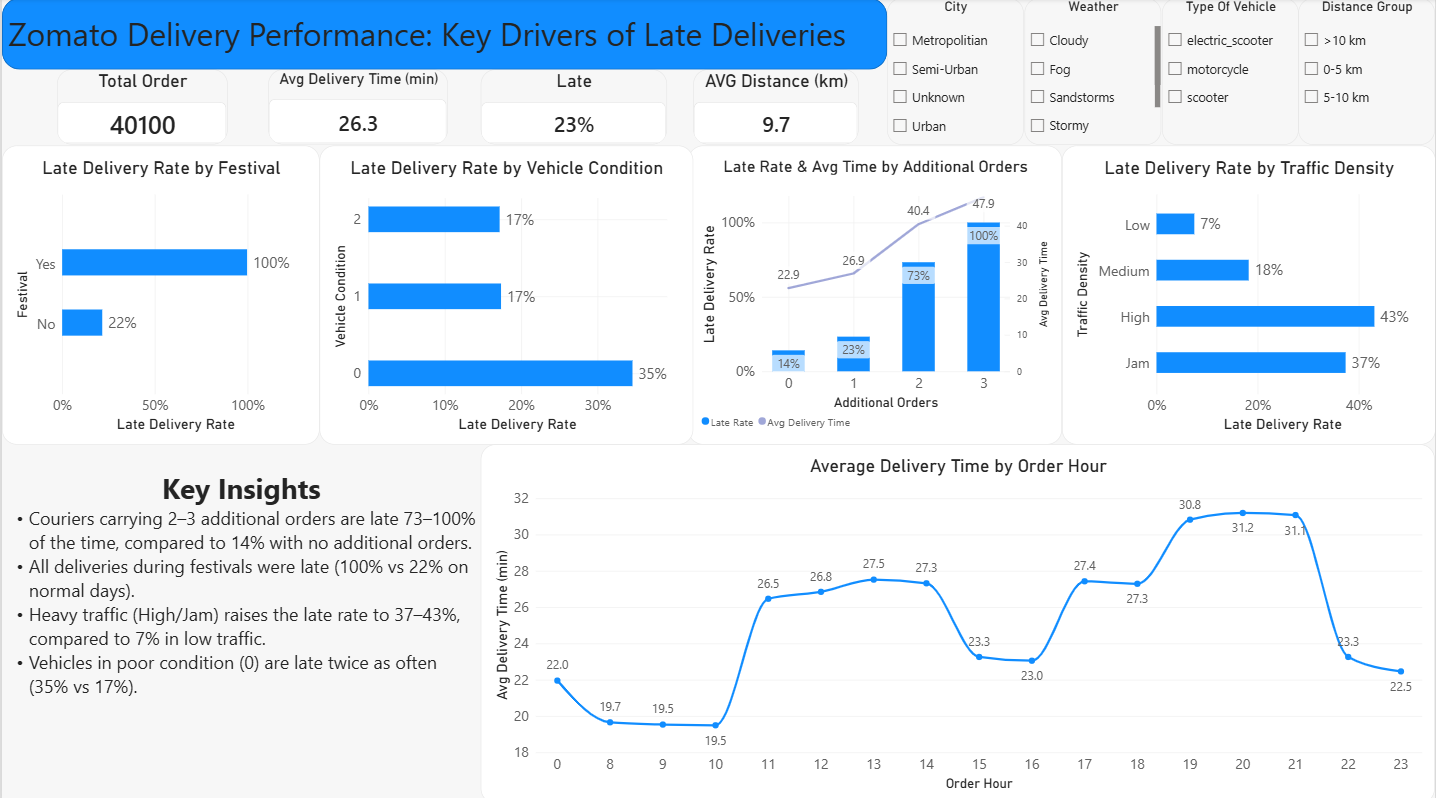

What the dashboard file says about the page in this screenshot:
{"tool":"powerbi","page":{"name":"Page 1","canvas":[1920,1080],"ordinal":0},"visuals":[{"type":"cardVisual","title":"Total Order","fields":{"Data":["zomato_clean.Total Pesanan"]},"box":[73.3,95.9,228.5,101.2],"z":0},{"type":"cardVisual","title":"Avg Delivery Time (min)","fields":{"Data":["zomato_clean.Rata2 Waktu Antar"]},"box":[357.6,95.9,240.7,101.2],"z":1},{"type":"cardVisual","title":"Late","fields":{"Data":["zomato_clean.% Terlambat"]},"box":[641.9,95.9,249.4,101.2],"z":2},{"type":"cardVisual","title":"AVG Distance (km)","fields":{"Data":["zomato_clean.Rata2 Jarak"]},"box":[926.2,95.9,221.5,101.2],"z":3},{"type":"clusteredBarChart","title":"Late Delivery Rate by Number of Additional Orders","fields":{"Category":["zomato_clean.multiple_deliveries"],"Y":["zomato_clean.% Terlambat"]},"box":[919.2,197.1,500.6,401.2],"z":4},{"type":"clusteredBarChart","title":"Late Delivery Rate by Traffic Density","fields":{"Category":["zomato_clean.Road_traffic_density"],"Y":["zomato_clean.% Terlambat"]},"box":[1419.8,197.1,500.6,401.2],"z":5},{"type":"lineChart","title":"Average Delivery Time by Order Hour","fields":{"Category":["zomato_clean.order_hour"],"Y":["zomato_clean.Rata2 Waktu Antar"]},"box":[641.9,598.3,1278.5,481.4],"z":6},{"type":"clusteredBarChart","title":"Late Delivery Rate by Vehicle Condition","fields":{"Category":["zomato_clean.Vehicle_condition"],"Y":["zomato_clean.% Terlambat"]},"box":[425.6,197.1,500.6,401.2],"z":7},{"type":"clusteredBarChart","title":"Late Delivery Rate by Festival","fields":{"Category":["zomato_clean.Festival"],"Y":["zomato_clean.% Terlambat"]},"box":[0,197.1,425.6,401.2],"z":8},{"type":"slicer","title":"City","fields":{"Values":["zomato_clean.City"]},"box":[1186,0,183.1,197.1],"z":9},{"type":"shape","box":[0,0,1186,95.9],"z":10},{"type":"textbox","box":[8.7,0,1177.3,95.9],"z":12},{"type":"slicer","title":"Weather","fields":{"Values":["zomato_clean.Weather_conditions"]},"box":[1370.9,0,183.1,197.1],"z":13},{"type":"slicer","title":"Type Of Vehicle","fields":{"Values":["zomato_clean.Type_of_vehicle"]},"box":[1554.1,0,183.1,197.1],"z":14},{"type":"slicer","title":"Distance Group","fields":{"Values":["zomato_clean.distance_group"]},"box":[1737.2,0,183.1,197.1],"z":15},{"type":"textbox","box":[0,631.5,641.5,448.9],"z":16}]}

Visuals, with their boxes in screenshot pixels (x1, y1, x2, y2), scaled from the page's 1920x1080 canvas onto the 1436x798 screenshot:
"Total Order" cardVisual: bbox(55, 71, 226, 146)
"Avg Delivery Time (min)" cardVisual: bbox(267, 71, 447, 146)
"Late" cardVisual: bbox(480, 71, 667, 146)
"AVG Distance (km)" cardVisual: bbox(693, 71, 858, 146)
"Late Delivery Rate by Number of Additional Orders" clusteredBarChart: bbox(687, 146, 1062, 442)
"Late Delivery Rate by Traffic Density" clusteredBarChart: bbox(1062, 146, 1435, 442)
"Average Delivery Time by Order Hour" lineChart: bbox(480, 442, 1435, 797)
"Late Delivery Rate by Vehicle Condition" clusteredBarChart: bbox(318, 146, 693, 442)
"Late Delivery Rate by Festival" clusteredBarChart: bbox(0, 146, 318, 442)
"City" slicer: bbox(887, 0, 1024, 146)
shape: bbox(0, 0, 887, 71)
textbox: bbox(7, 0, 887, 71)
"Weather" slicer: bbox(1025, 0, 1162, 146)
"Type Of Vehicle" slicer: bbox(1162, 0, 1299, 146)
"Distance Group" slicer: bbox(1299, 0, 1435, 146)
textbox: bbox(0, 467, 480, 797)
